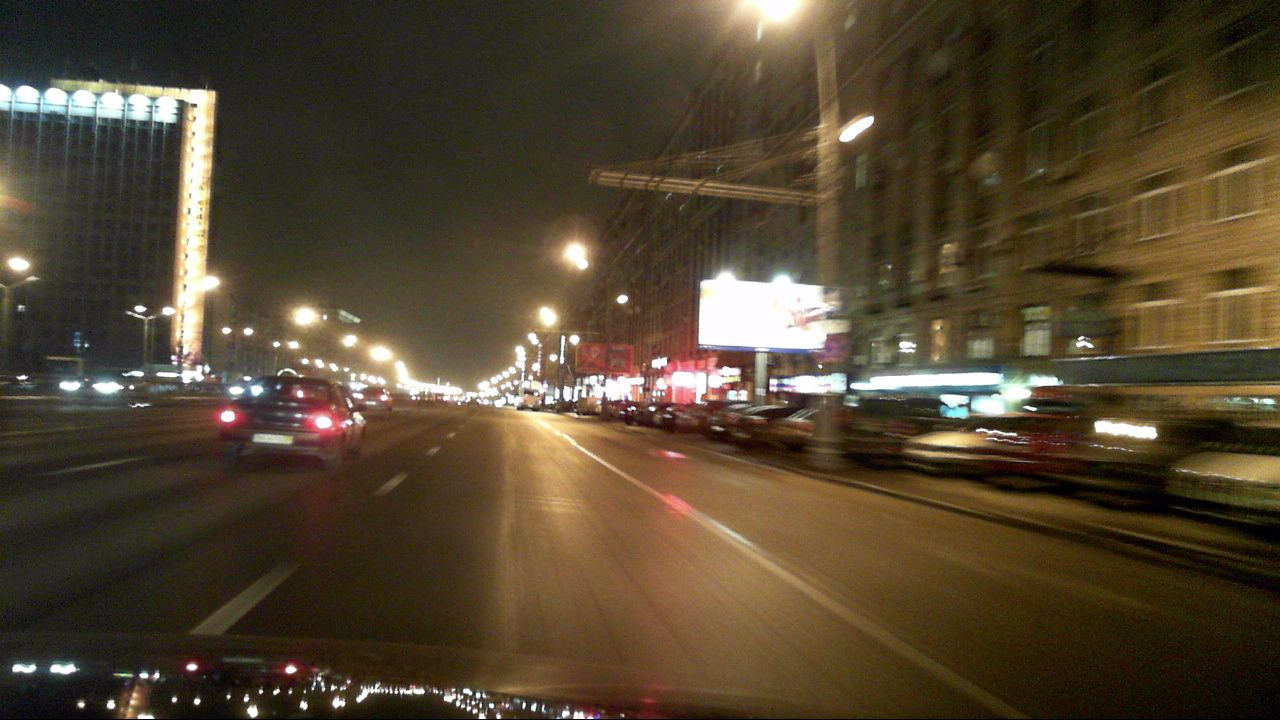No Parking: (823, 335, 851, 364)
